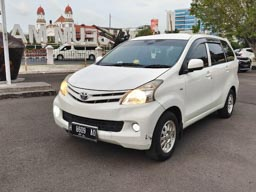plat: (69, 123, 98, 143)
